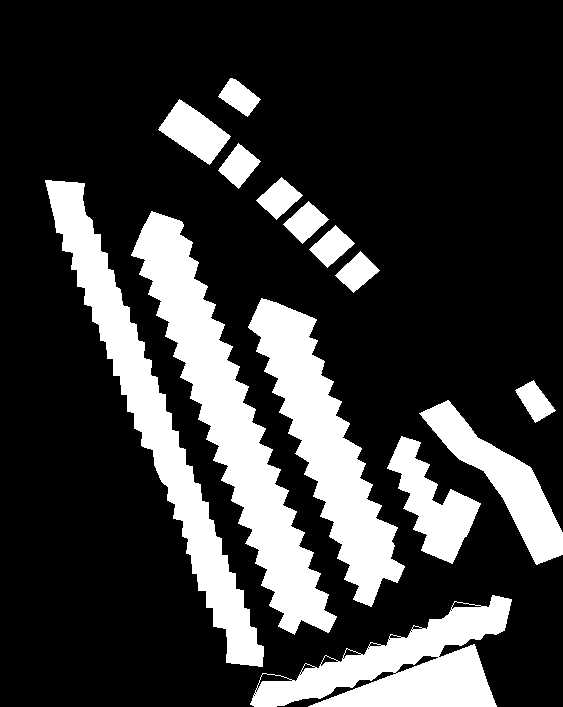parkingspot: (45, 180, 263, 666), (145, 211, 336, 632), (131, 224, 307, 634), (248, 298, 383, 606), (271, 303, 404, 582), (250, 595, 511, 707), (419, 400, 562, 564), (308, 644, 488, 707), (387, 436, 466, 563), (158, 99, 230, 164), (434, 489, 480, 536), (256, 177, 302, 219), (218, 143, 260, 188), (283, 201, 328, 243), (309, 225, 354, 267), (335, 251, 379, 292), (515, 380, 555, 422), (426, 683, 496, 707), (218, 78, 260, 116)
